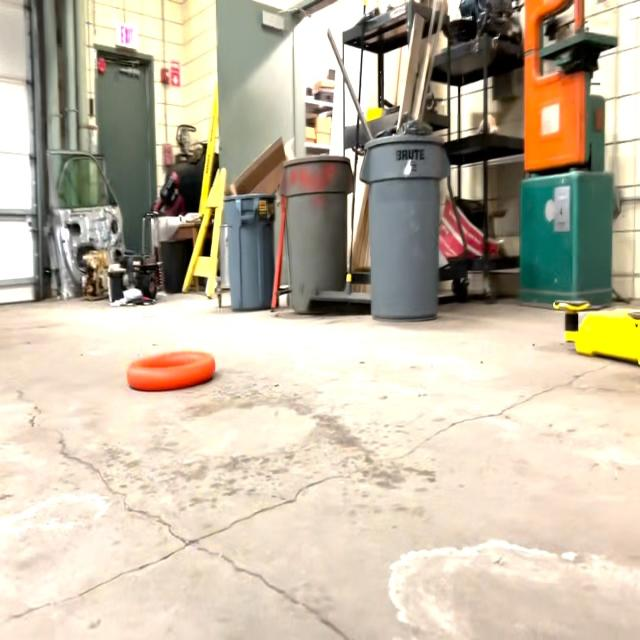note: (125, 350, 218, 391)
